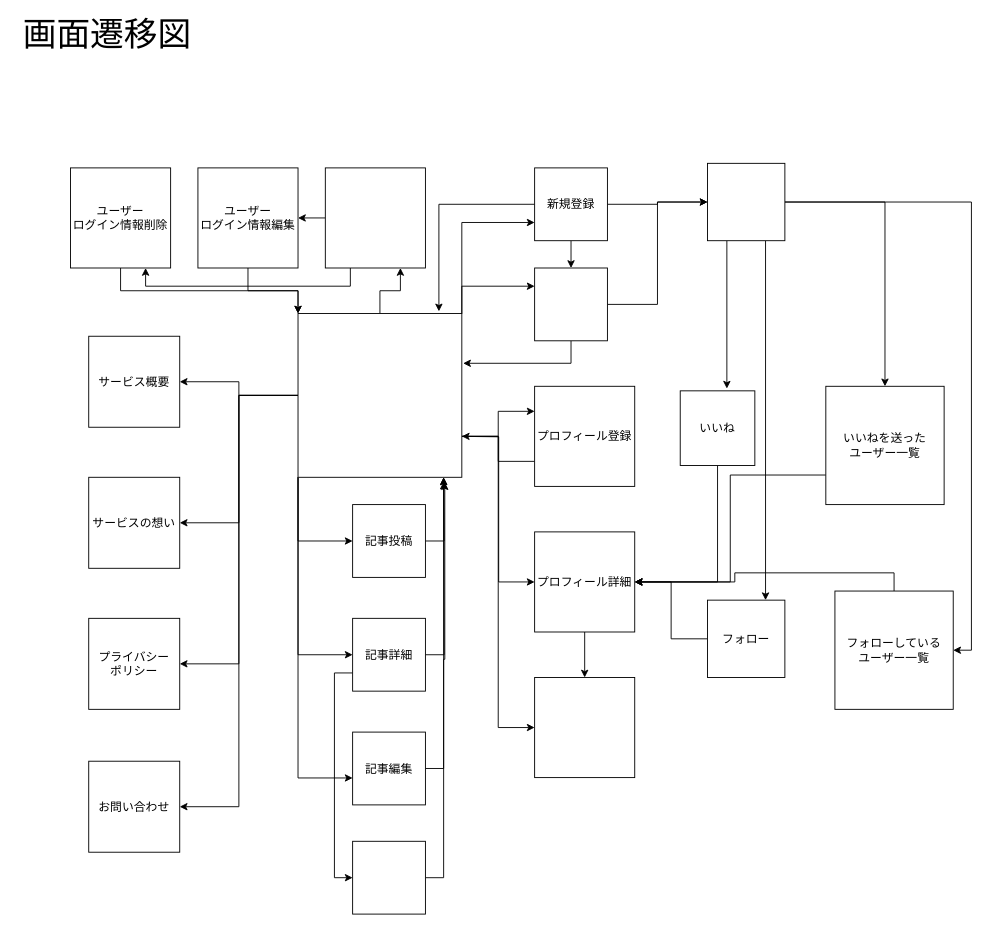
The diagram is 995 pixels wide and 930 high, and some of its shapes have lost their labels. Here are the shapes that lost their labels. From the top down, the centre of each, then its label:
At pixel 374 217: "ユーザー ログイン情報詳細".
At pixel 746 201: "ユーザー".
At pixel 570 304: "ログイン".
At pixel 379 395: "記事一覧 （トップページ）".
At pixel 584 727: "プロフィール編集".
At pixel 388 877: "記事削除".
